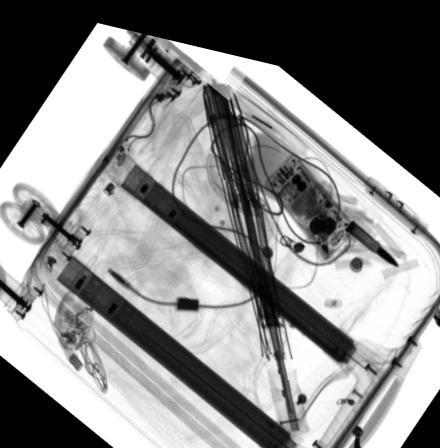Bullet: (344, 201, 399, 246)
